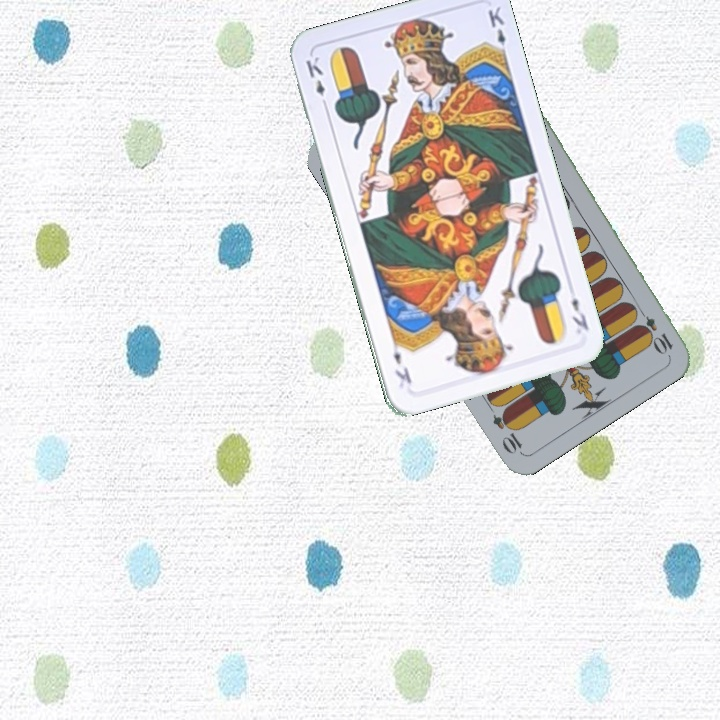E10: (632, 303, 676, 357)
EK: (301, 52, 331, 112), (567, 293, 592, 333)
